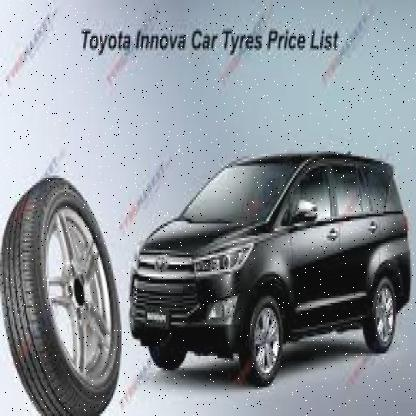car: (124, 138, 412, 390)
